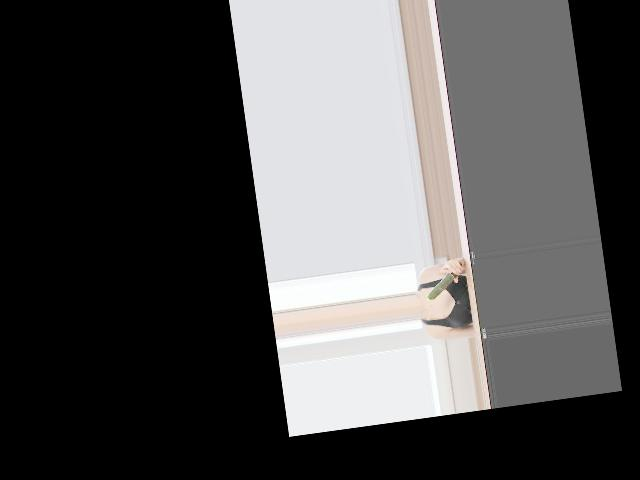cucumber: (422, 261, 466, 300)
